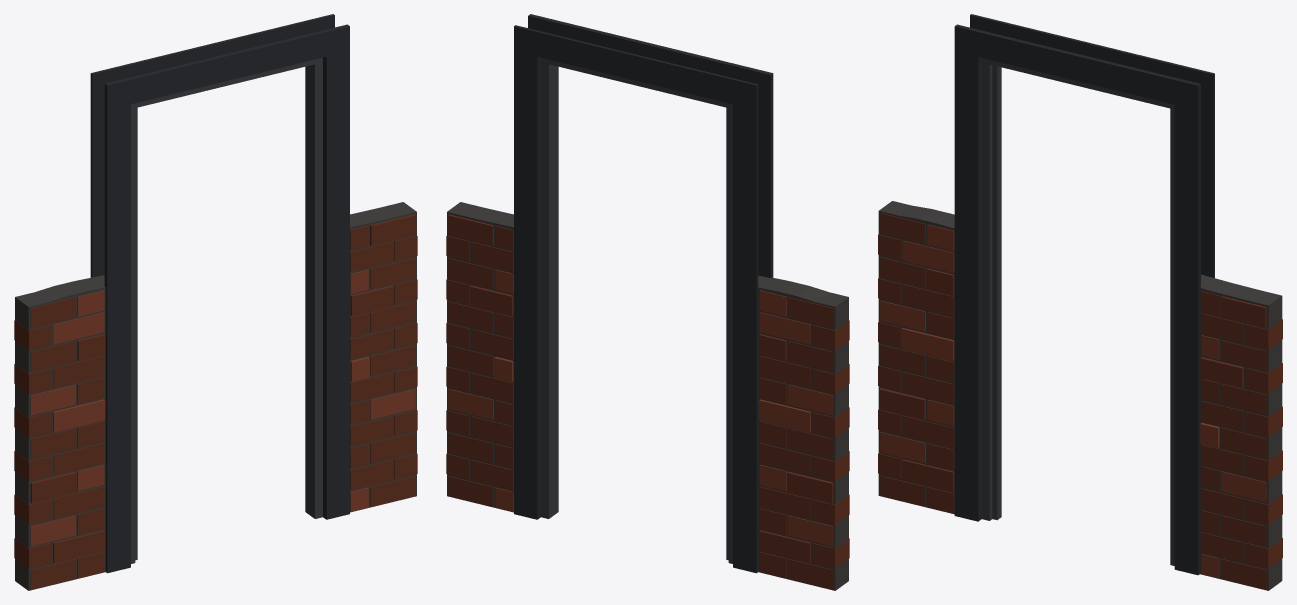
Rendered from SM_Wall_Brick_With_Door_Build.glb.
3 renders of one model, left to right at view 1: azimuth 30°, elevation 25°; view 2: azimuth 150°, elevation 25°; view 3: azimuth 330°, elevation 25°, orthographic.
Visible parts, largest first — view 1: SM_Wall_Brick_With_Door_Build; view 2: SM_Wall_Brick_With_Door_Build; view 3: SM_Wall_Brick_With_Door_Build.
Part boxes in pixels (x1,y1,x2,y2): SM_Wall_Brick_With_Door_Build: (14,14,417,590); SM_Wall_Brick_With_Door_Build: (446,14,849,590); SM_Wall_Brick_With_Door_Build: (878,14,1282,590).
Size of the model in its own units: 2 by 2.4 by 0.15.
1 material, 1 textured.
